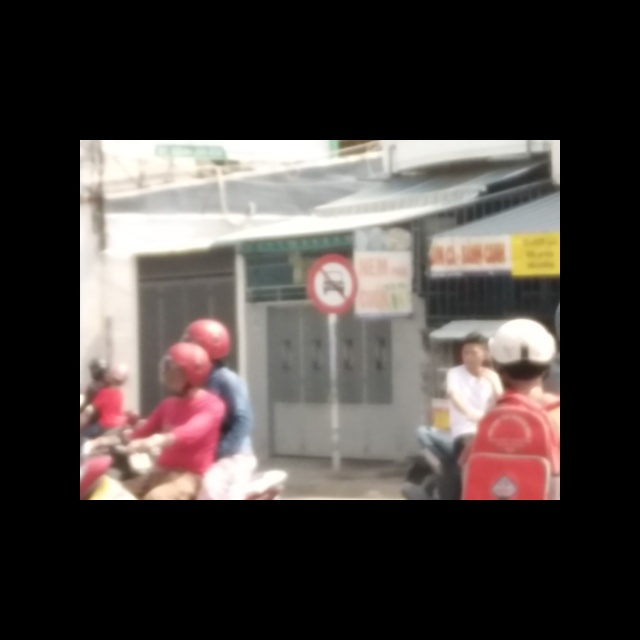Cấm xe ô tô: (307, 252, 358, 316)
